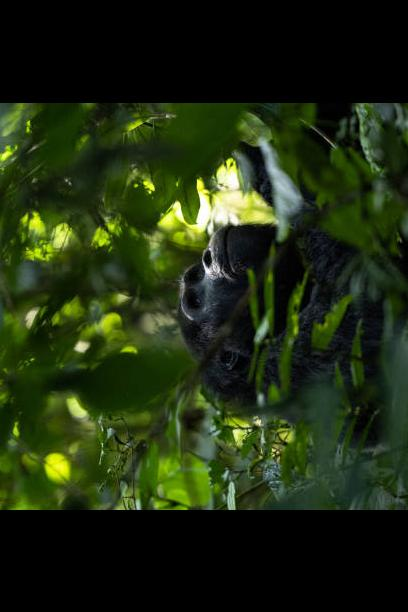goriile_montagne: (151, 167, 367, 440)
